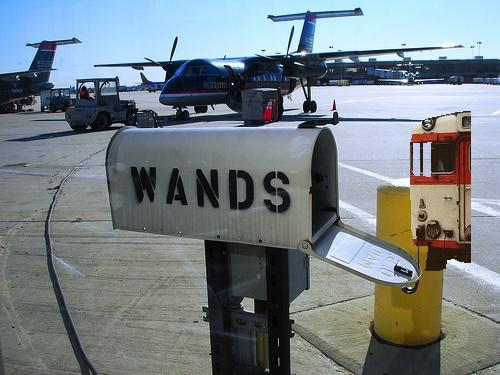tampered: (411, 112, 471, 271)
